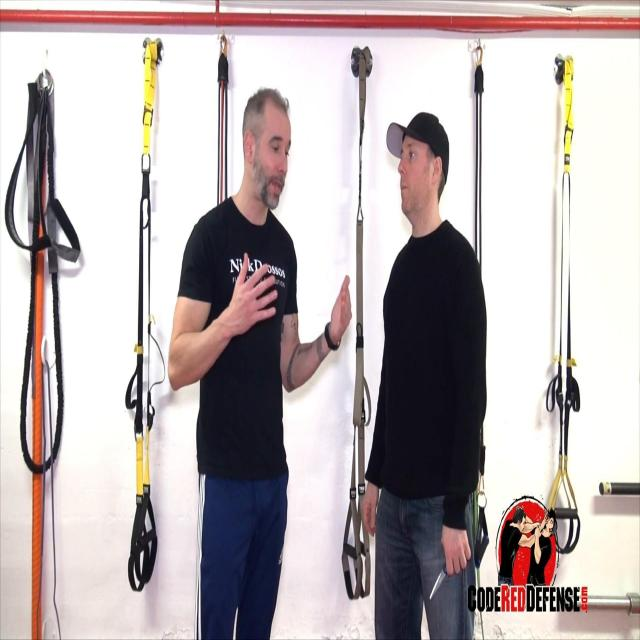scissor: (430, 560, 447, 600)
